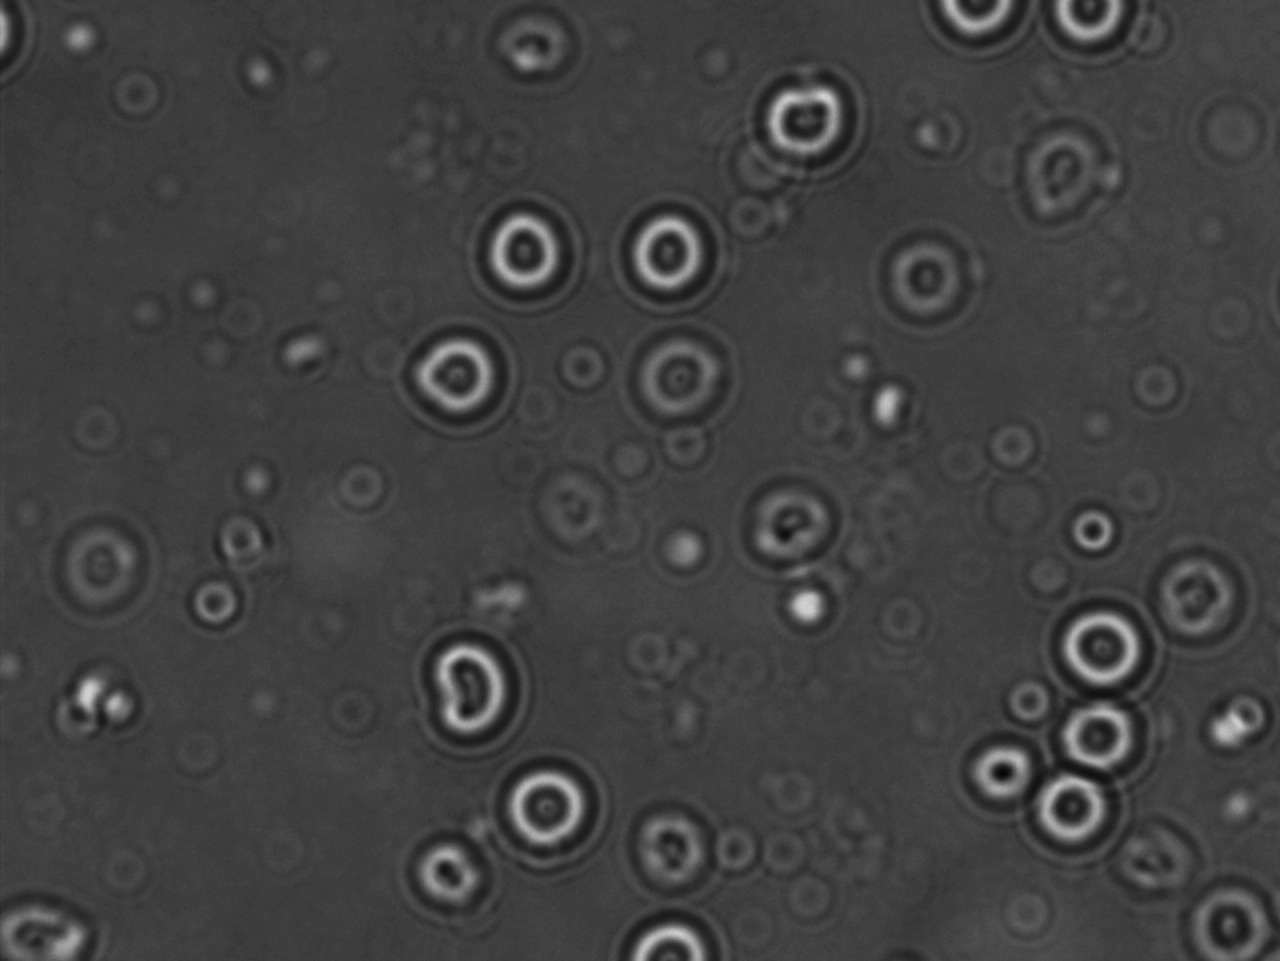depth:8: (409, 621, 529, 740), (470, 196, 586, 308), (1050, 593, 1163, 701), (496, 748, 611, 853), (400, 319, 508, 430), (1017, 757, 1131, 862), (752, 66, 858, 173), (612, 202, 722, 301), (1055, 686, 1157, 782)
